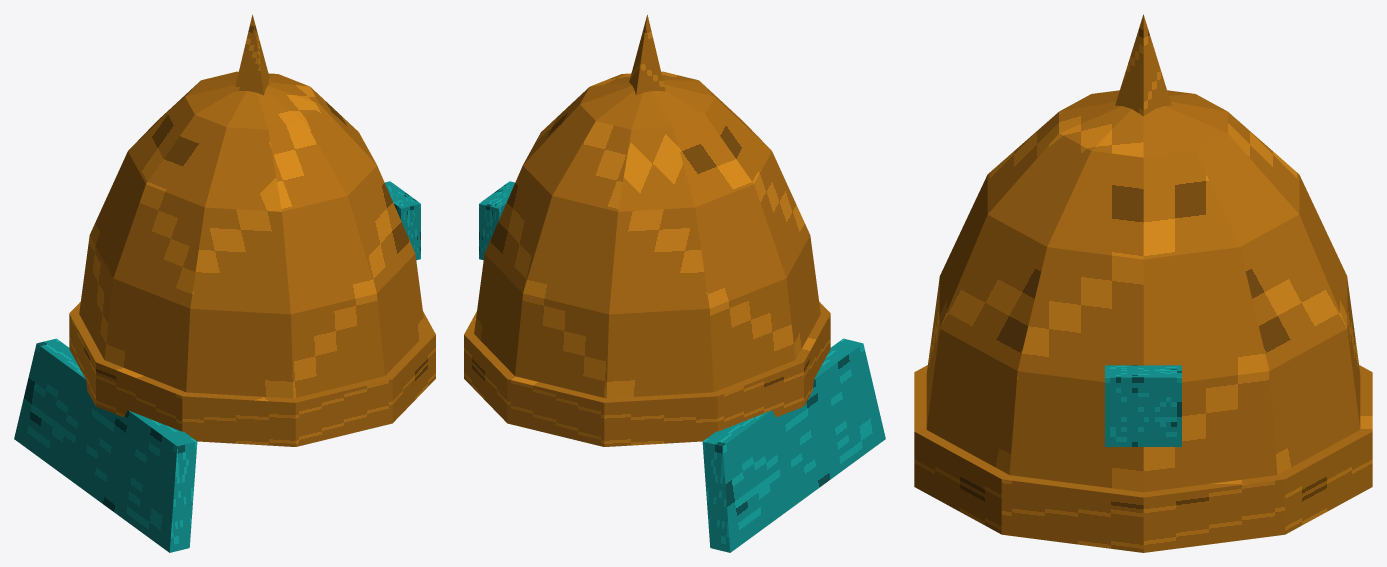
Rendered from oro_padre.glb.
3 views of the same model, side by side, from view 1: azimuth 30°, elevation 25°; view 2: azimuth 150°, elevation 25°; view 3: azimuth 270°, elevation 25° (orthographic). The views are drawn at different scales.
Visible parts, largest first — view 1: cupula, cogotera, aro, cimera, incrustaciones; view 2: cupula, cogotera, aro, cimera, incrustaciones; view 3: cupula, aro, incrustaciones, cimera.
Boxes of the visible parts, box(x1,y1,x2,y2) form: cupula: box(79, 71, 425, 398); cogotera: box(14, 338, 197, 552); aro: box(69, 302, 435, 446); cimera: box(234, 14, 270, 95); incrustaciones: box(385, 181, 420, 260); cupula: box(474, 71, 820, 398); cogotera: box(702, 338, 885, 552); aro: box(464, 302, 830, 446); cimera: box(629, 14, 665, 95); incrustaciones: box(479, 181, 514, 260); cupula: box(926, 90, 1360, 492); aro: box(914, 365, 1372, 552); incrustaciones: box(1105, 365, 1181, 446); cimera: box(1115, 14, 1171, 116).
Size of the model in its own units: 0.3 by 0.4 by 0.3.
1 material, 1 textured.
